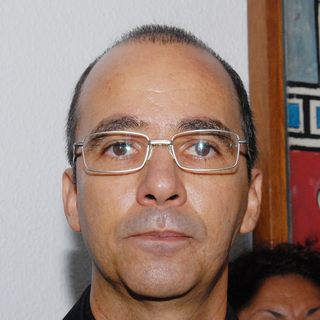eye: (97, 139, 141, 163), (183, 136, 225, 161)
